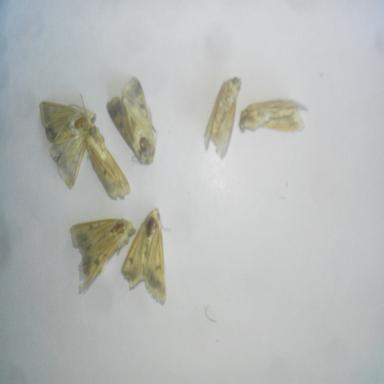abw: (37, 94, 100, 193), (118, 202, 172, 309), (68, 216, 138, 296), (104, 74, 159, 168), (83, 121, 134, 204), (202, 74, 246, 162), (235, 92, 311, 140)
